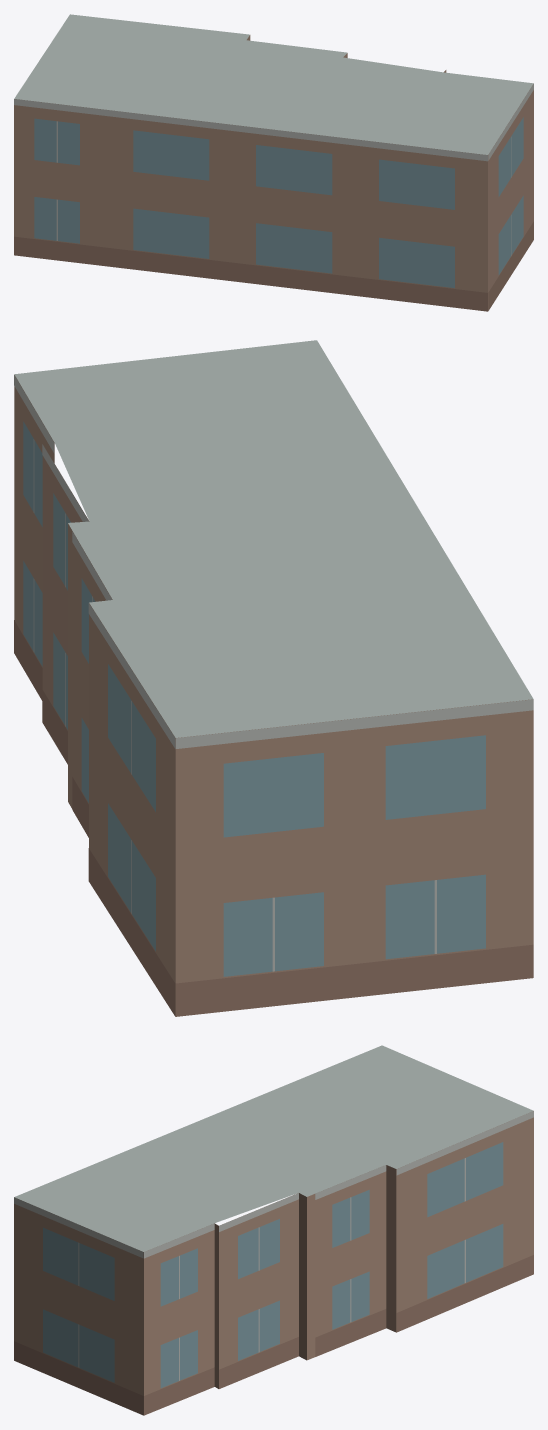
File: survey-upis-32711843.glb
3 renders of one model, top to bottom at view 1: azimuth 30°, elevation 25°; view 2: azimuth 150°, elevation 25°; view 3: azimuth 270°, elevation 25°, orthographic. The views are drawn at different scales.
Visible parts, largest first — view 1: survey-upis-32711843.tmp; view 2: survey-upis-32711843.tmp; view 3: survey-upis-32711843.tmp.
Part boxes in pixels (box(x1,y1,x2,y2)): survey-upis-32711843.tmp: box(14, 14, 533, 311); survey-upis-32711843.tmp: box(14, 340, 533, 1016); survey-upis-32711843.tmp: box(14, 1045, 533, 1415).
Bounding box in the file's own units: 16.56 × 6.1 × 17.58.
